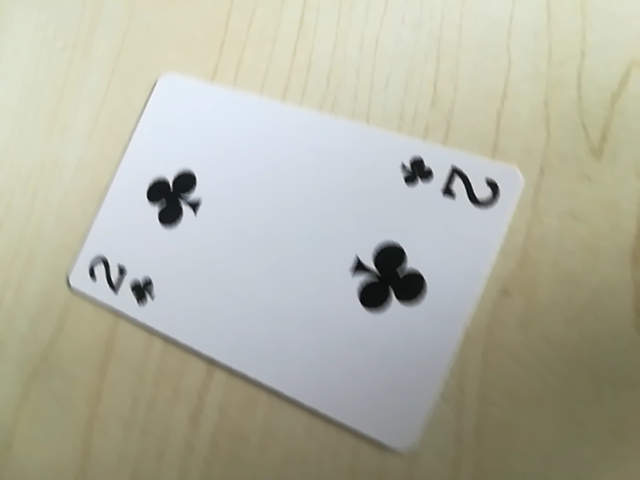mh 2: (398, 156, 505, 212), (79, 250, 164, 309)
